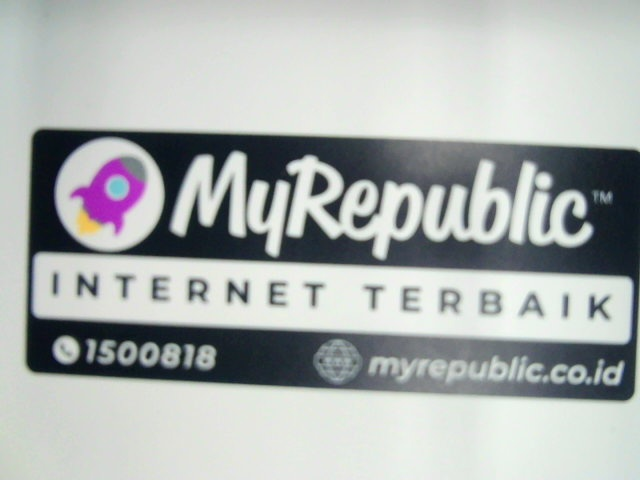BD_MyRepublic: (22, 125, 635, 404)
